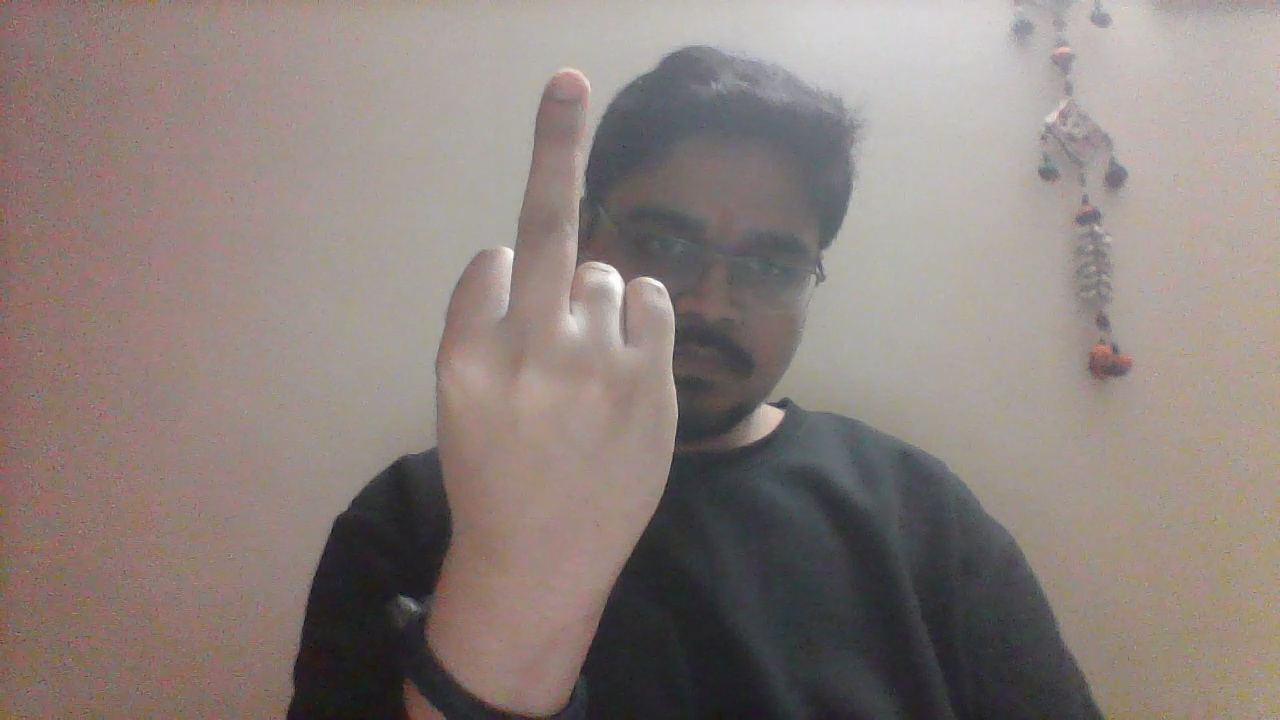Fuck Off: (429, 64, 684, 639)
